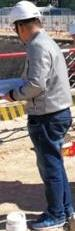boots: (0, 206, 7, 217)
hard-hat: (7, 0, 42, 25)
